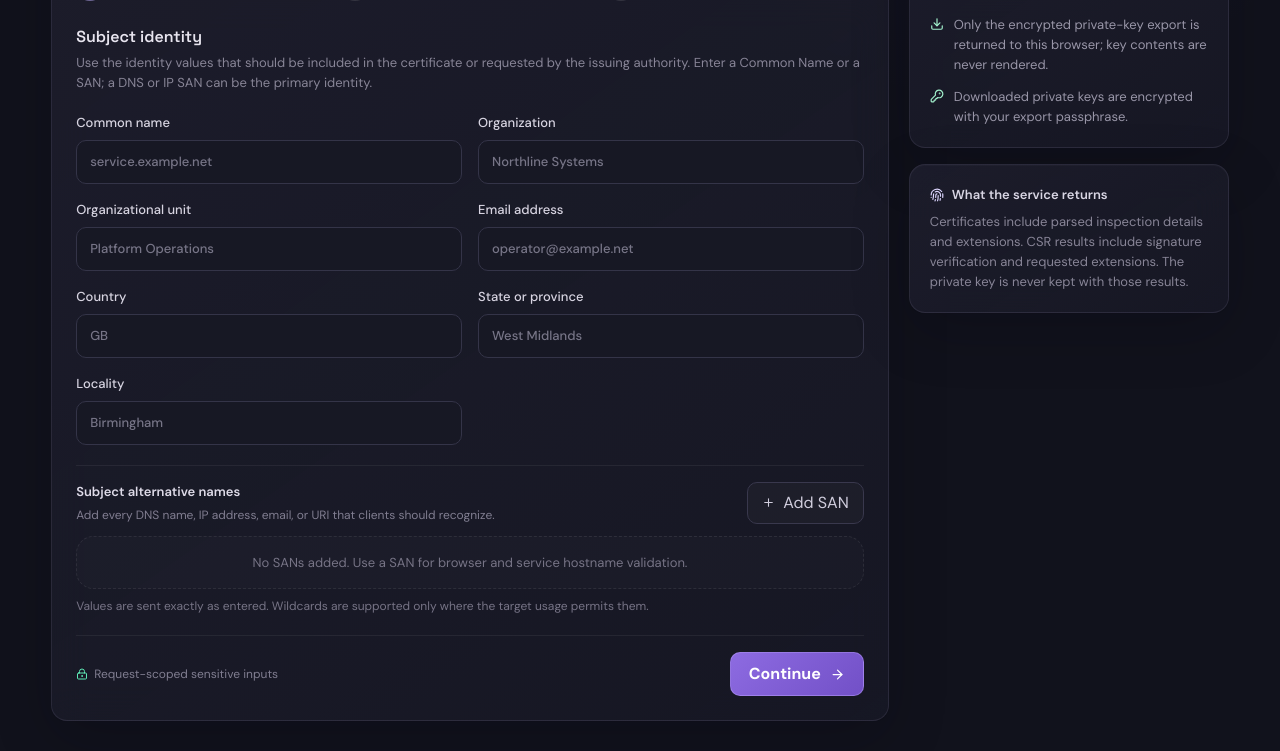
Scenario: Create certificate wizard › requires a subject identity or SAN before continuing
This screenshot has width=1280, height=751.
(page scrolled)
Click the button with test id "button-continue": (797,674) left=730, top=652, right=864, bottom=696
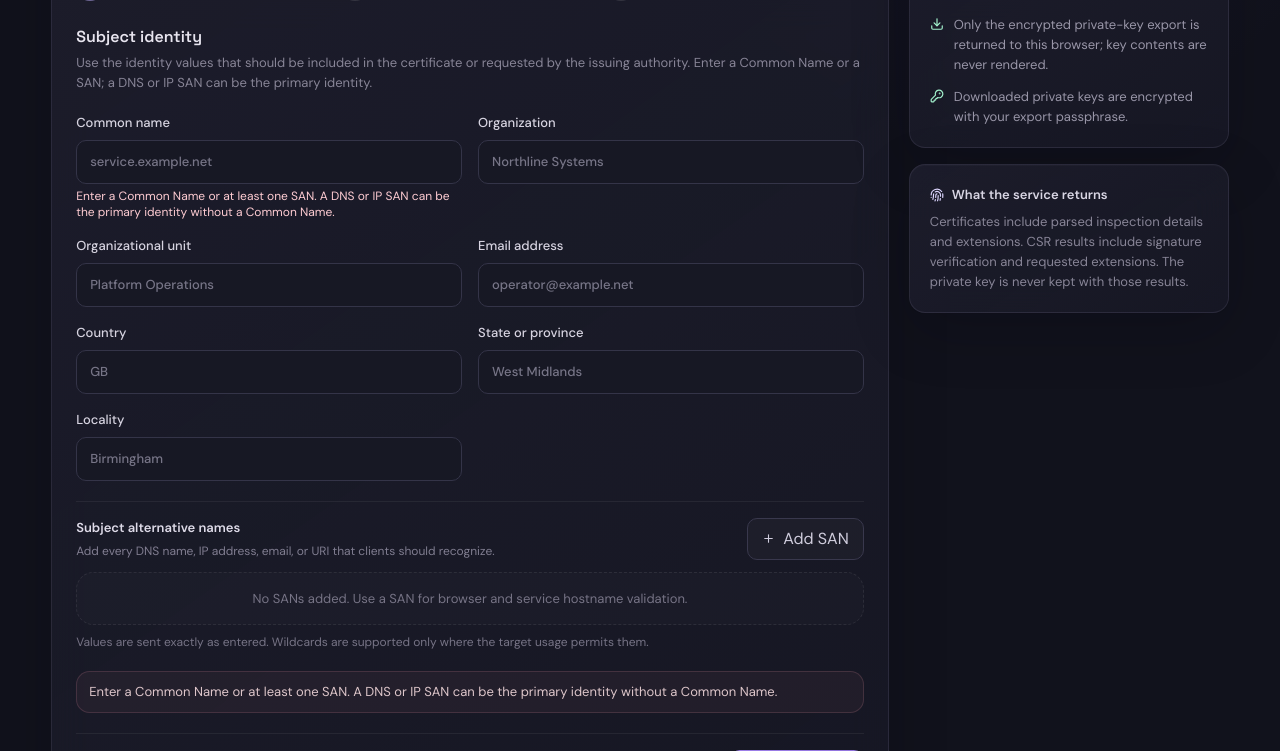
Expected: the 1st text "Enter a Common Name or at least one SAN" is shown, left=76, top=188, right=450, bottom=220
